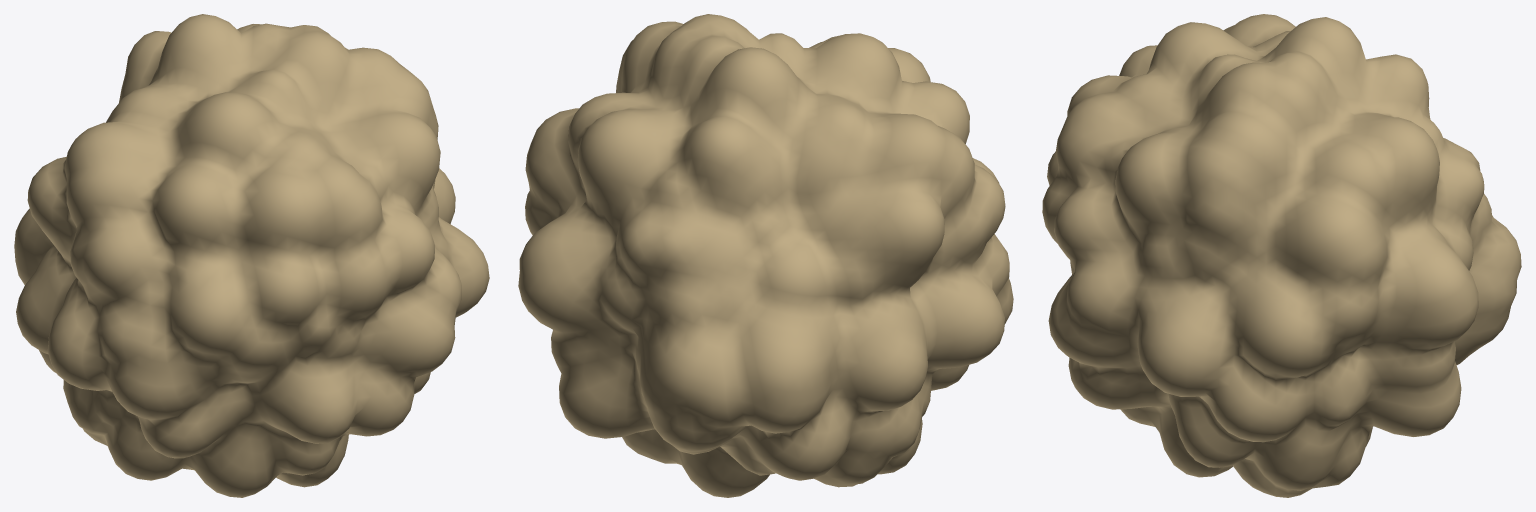
File: dsfd.fbx
3 renders of one model, left to right at view 1: azimuth 30°, elevation 25°; view 2: azimuth 150°, elevation 25°; view 3: azimuth 270°, elevation 25°, orthographic. The views are drawn at different scales.
Parts seen in each view (by area): view 1: GeoSphere008; view 2: GeoSphere008; view 3: GeoSphere008.
Boxes of the visible parts, box(x1,y1,x2,y2) form: GeoSphere008: box(14, 14, 489, 497); GeoSphere008: box(518, 14, 1013, 497); GeoSphere008: box(1042, 14, 1521, 497).
Size of the model in its own units: 5.81 by 5.73 by 5.67.
